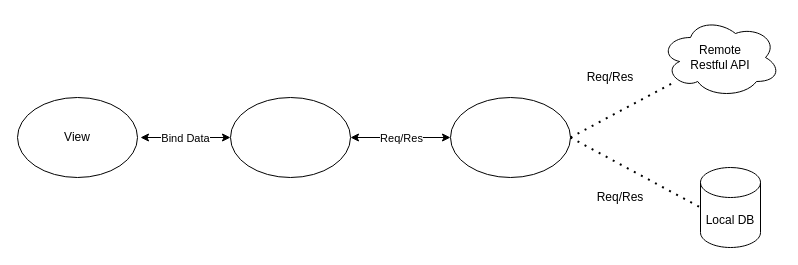
Some shapes in this 798 by 265 pixel diagram are drawn without their labels. The shapes that lost their labels are listed below. From the top down, each one's centre as x and y in pixels, then its label:
pixel 290 137: ViewModel
pixel 510 137: Repository
